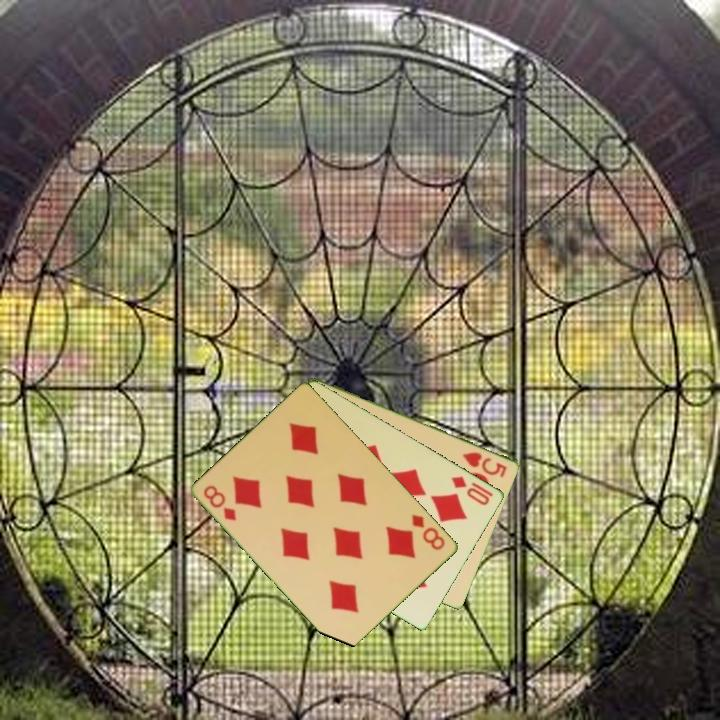10d: (448, 472, 496, 509)
5h: (459, 448, 510, 480)
8d: (408, 511, 448, 553), (200, 482, 240, 524)
